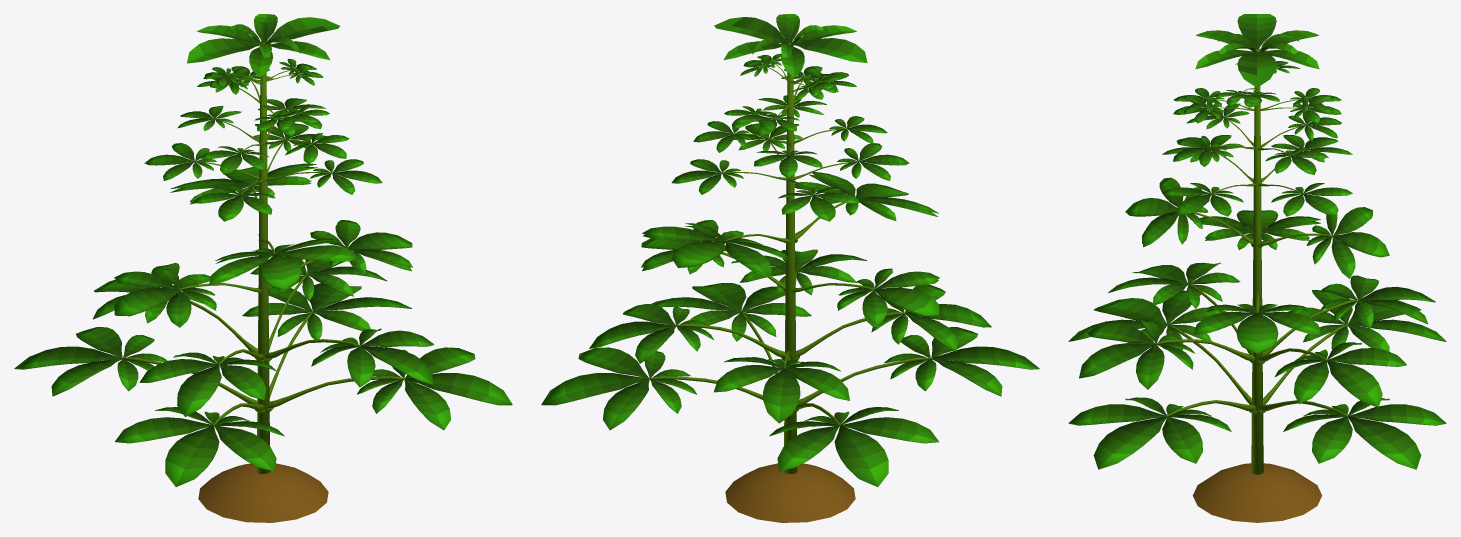
File: 3 Cannibis flower.fbx
The picture shows the model from 3 angles, left to right: view 1: azimuth 30°, elevation 25°; view 2: azimuth 150°, elevation 25°; view 3: azimuth 270°, elevation 25°; orthographic projection.
Visible parts, largest first — view 1: Leaf model.002, Leaf model.003, Soil, Sprout.005, Main stem.001; view 2: Leaf model.002, Leaf model.003, Soil, Sprout.005, Main stem.001; view 3: Leaf model.002, Leaf model.003, Soil, Sprout.005, Main stem.001.
Boxes of the visible parts, x1,y1,x2,y2 form: Leaf model.002: (14, 66, 512, 486); Leaf model.003: (93, 59, 433, 416); Soil: (198, 463, 328, 522); Sprout.005: (187, 14, 339, 77); Main stem.001: (256, 41, 269, 473); Leaf model.002: (541, 66, 1039, 486); Leaf model.003: (589, 53, 991, 423); Soil: (725, 463, 855, 522); Sprout.005: (714, 14, 867, 77); Main stem.001: (784, 41, 797, 473); Leaf model.002: (1068, 88, 1446, 469); Leaf model.003: (1079, 61, 1435, 407); Soil: (1192, 463, 1322, 522); Sprout.005: (1195, 14, 1319, 87); Main stem.001: (1251, 48, 1263, 474).
Size of the model in its own units: 447 by 548 by 413.
